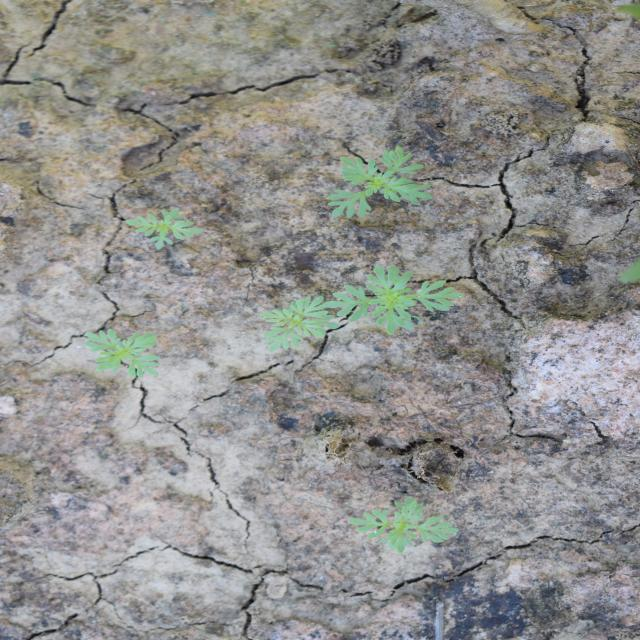Ragweed: (322, 261, 466, 336), (322, 143, 438, 220), (346, 495, 462, 555), (256, 294, 341, 351), (80, 327, 165, 380), (123, 206, 206, 252)
